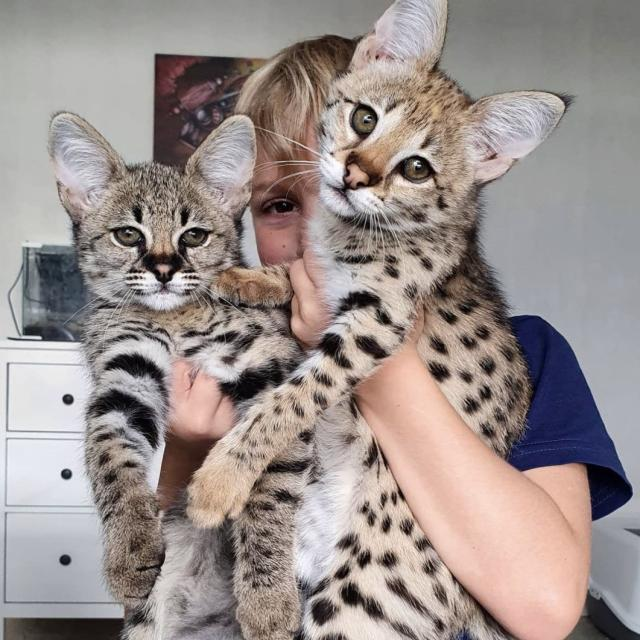Savannah: (274, 0, 568, 640), (42, 105, 305, 640)
